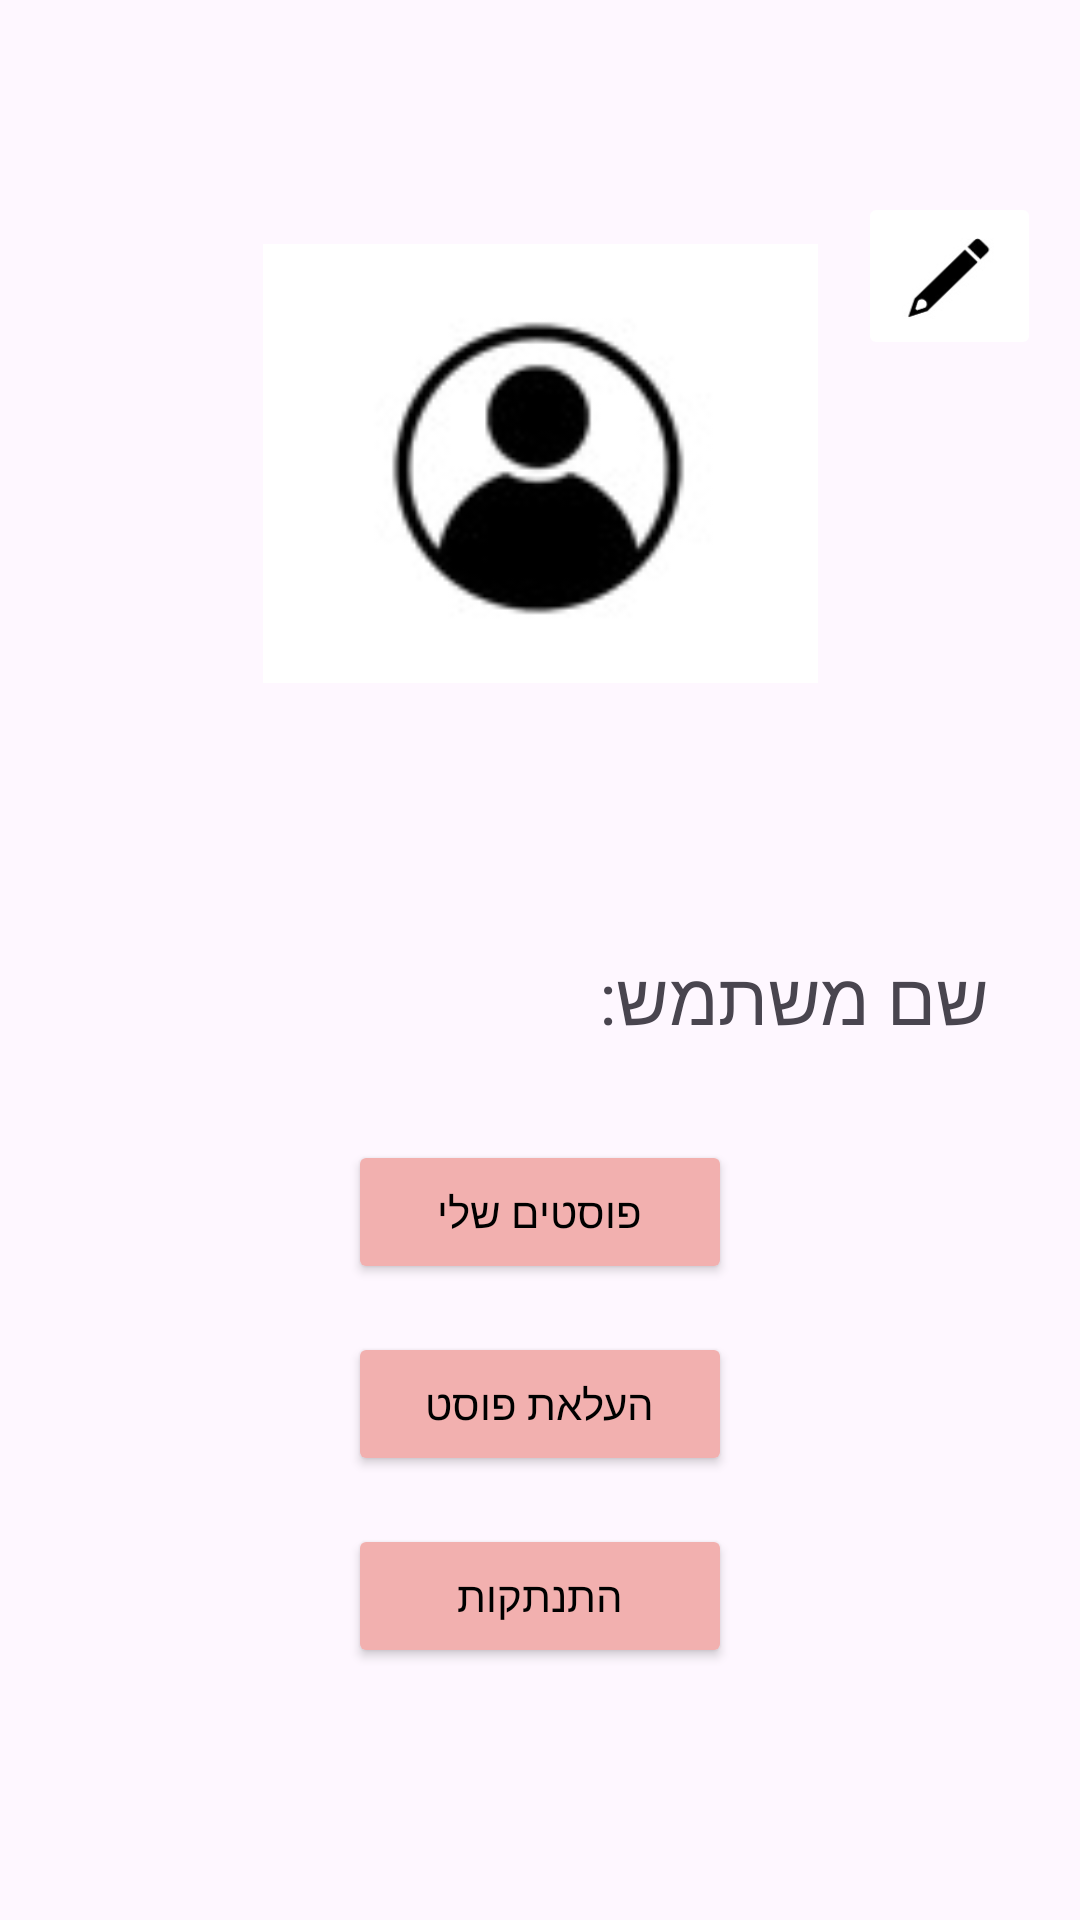

Icon click points for this 1080px×1920px phone screenshot, format [x,y]:
edit: [949,277]
profile: [538,468]
